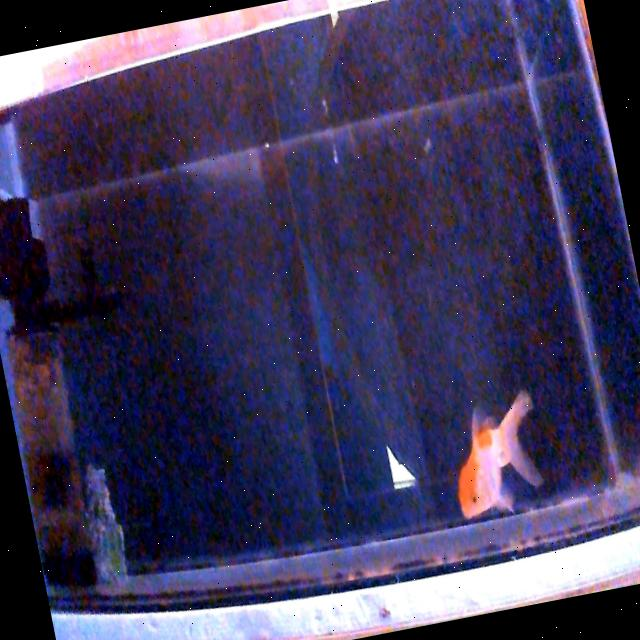fish: (438, 388, 554, 526)
